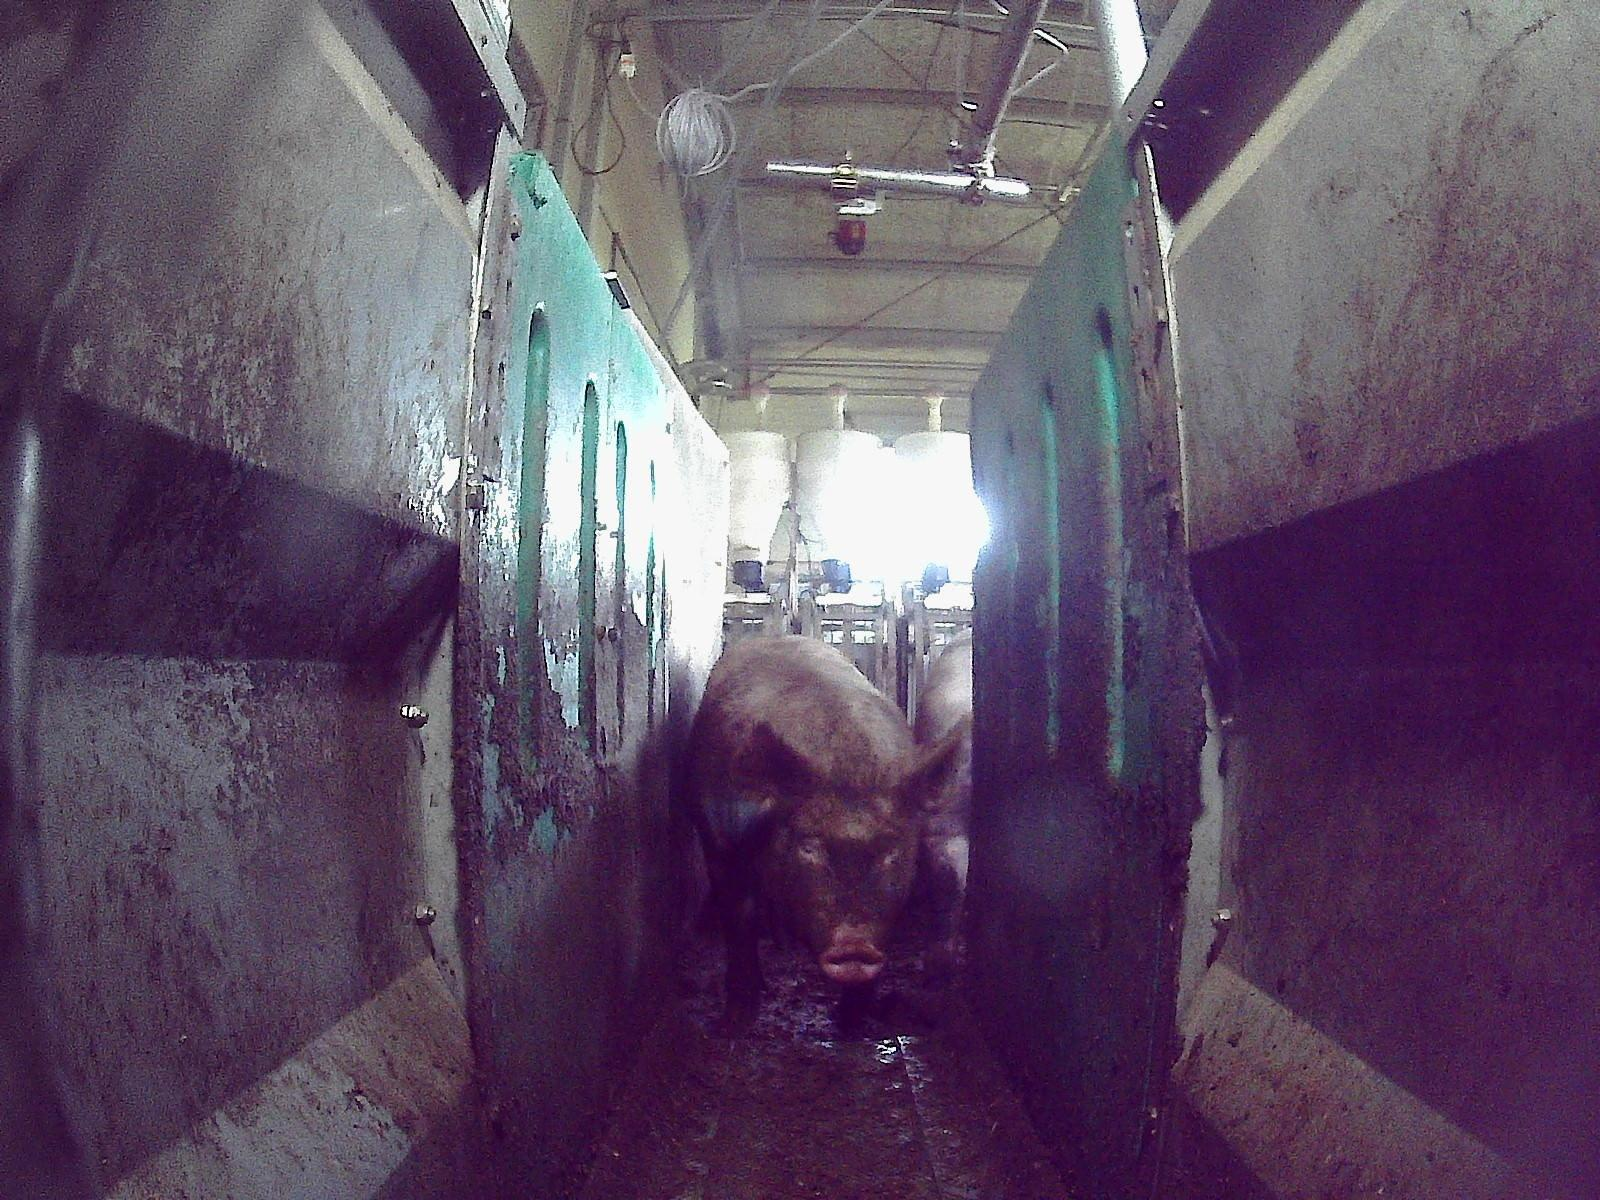Face: (779, 767, 920, 982)
